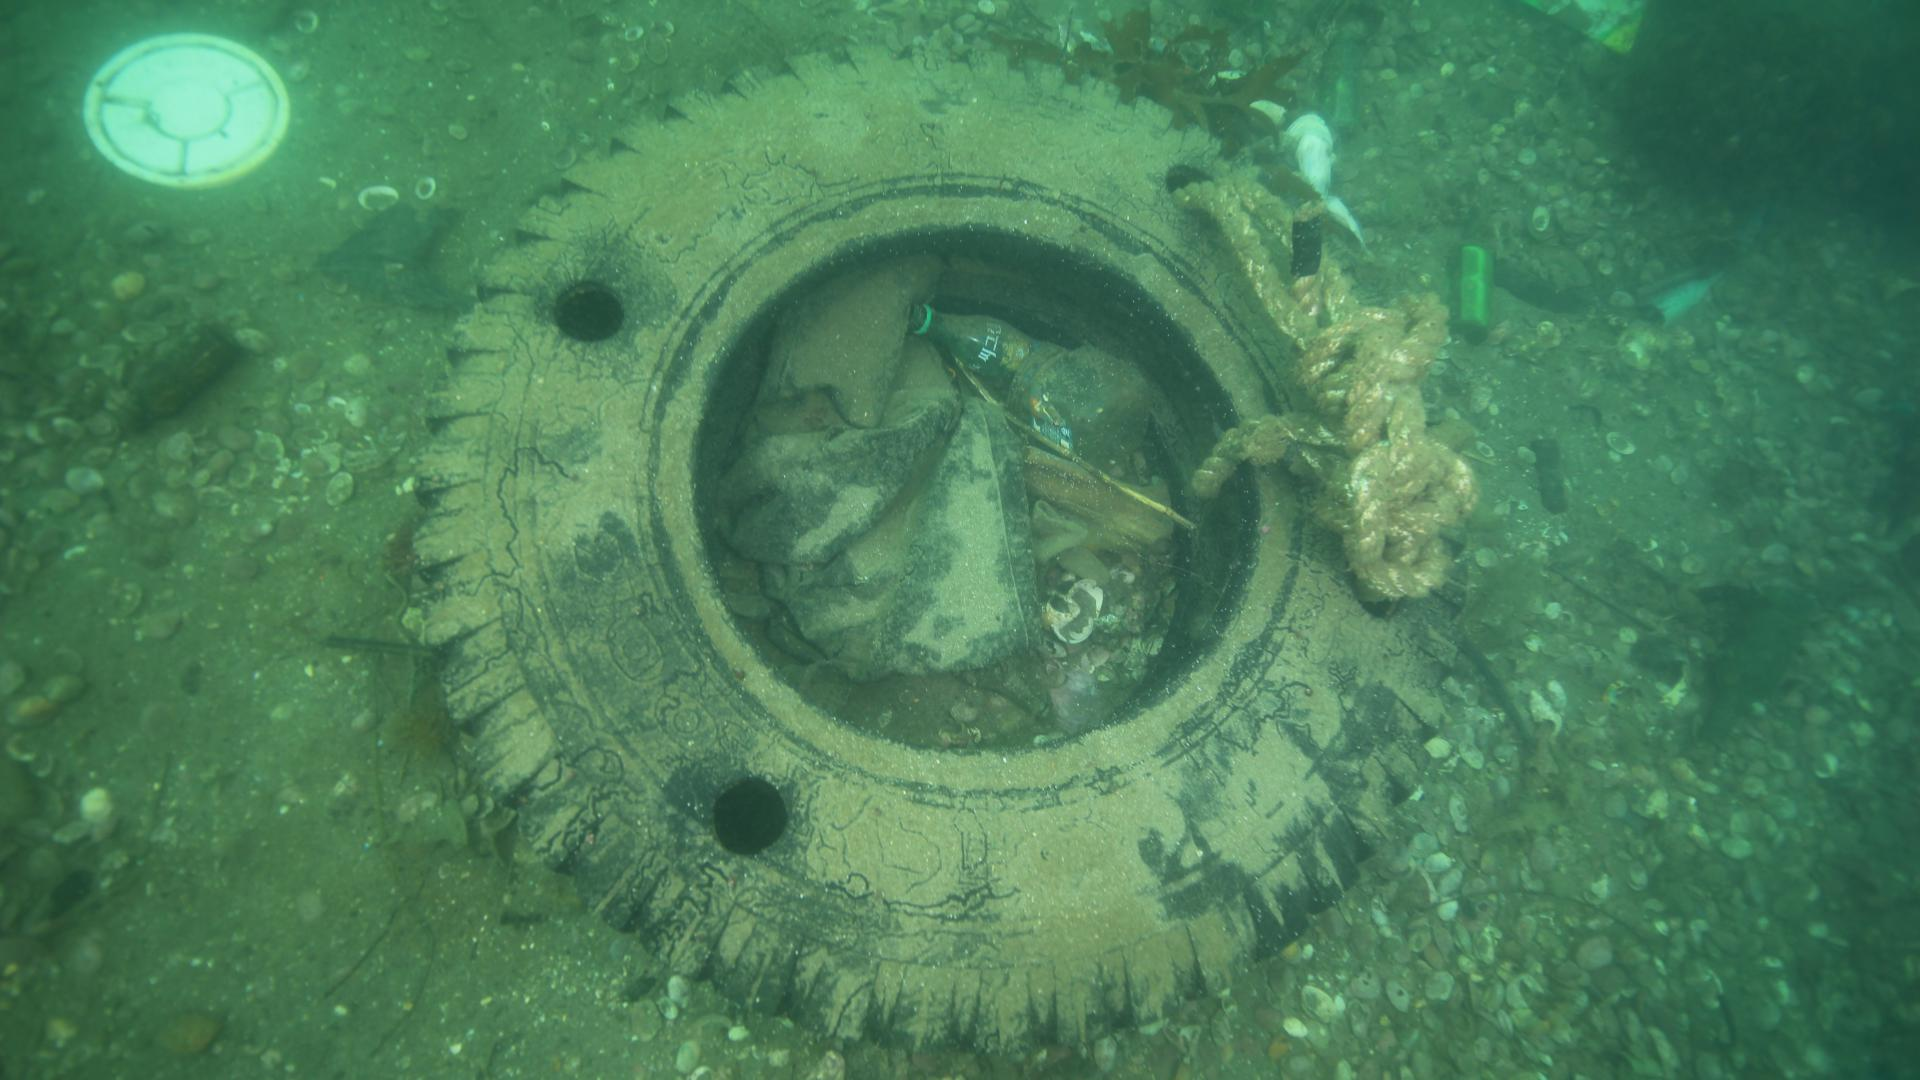bundle of ropes: (1168, 171, 1481, 607)
tire: (398, 36, 1474, 1069)
